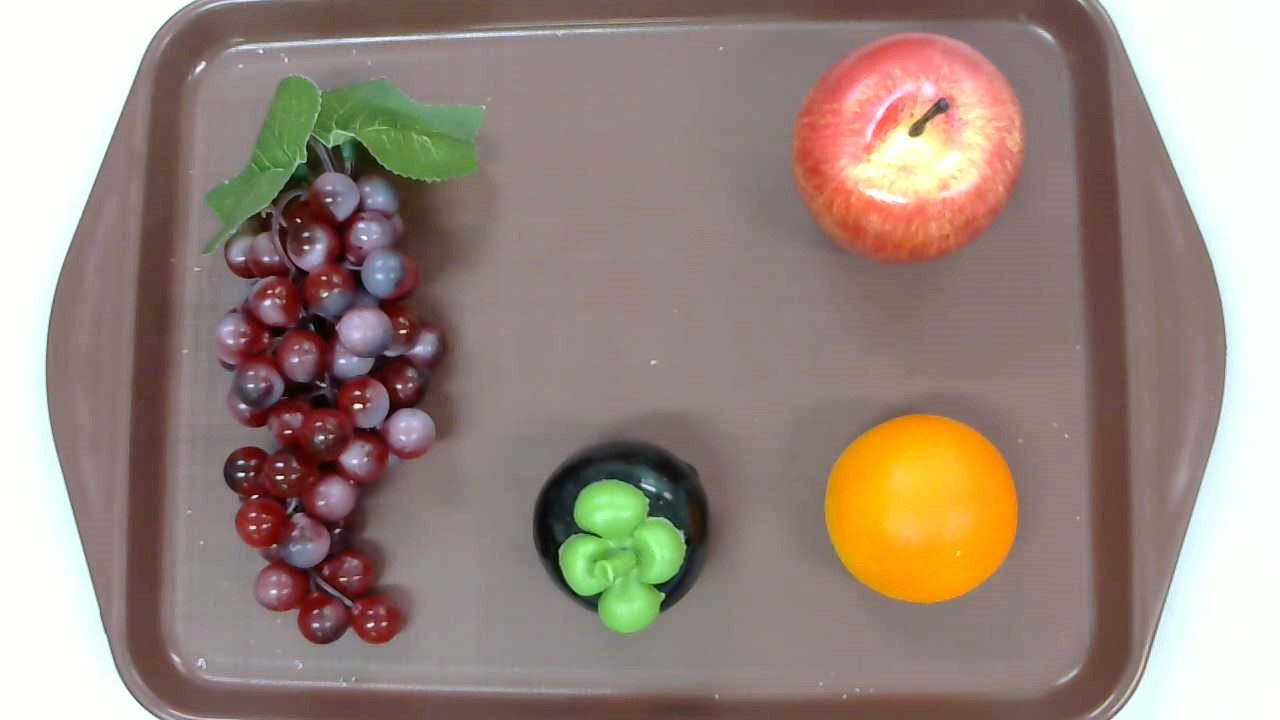bun: (824, 413, 1018, 603)
grape: (201, 74, 487, 646)
mangosteen: (532, 439, 710, 634)
red apple: (792, 32, 1027, 268)
